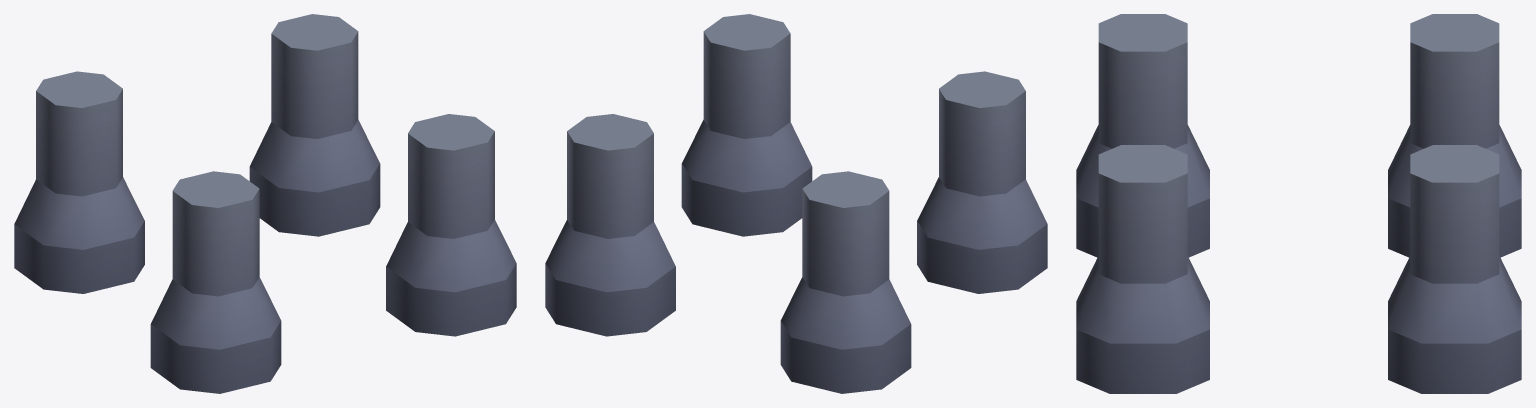
File: kenney-marble-support-four-bottom.glb
3 views of the same model, side by side, from view 1: azimuth 30°, elevation 25°; view 2: azimuth 150°, elevation 25°; view 3: azimuth 270°, elevation 25° (orthographic). The views are drawn at different scales.
Parts seen in each view (by area): view 1: support-four-bottom; view 2: support-four-bottom; view 3: support-four-bottom.
Boxes of the visible parts, x1,y1,x2,y2 form: support-four-bottom: [14, 14, 516, 393]; support-four-bottom: [545, 14, 1047, 393]; support-four-bottom: [1076, 14, 1521, 393].
Bounding box in the file's own units: 0.9968 × 0.5001 × 1.
1 material, 1 textured.
